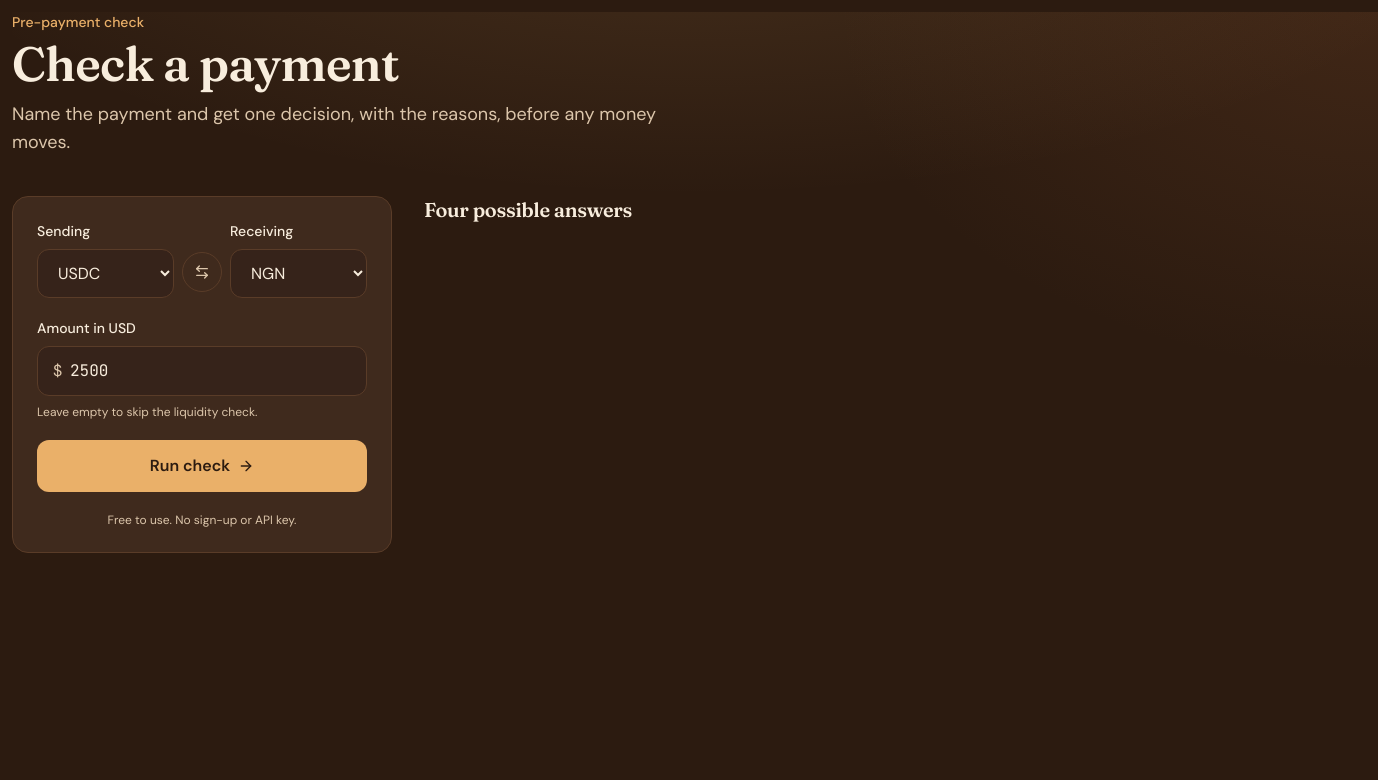
Test case: PredictionForm (Check a payment) › swaps assets and blocks a same-asset check
The width and height of the screenshot is (1378, 780).
Click the button named "swap assets" at (202, 272), box [182,252,222,292]
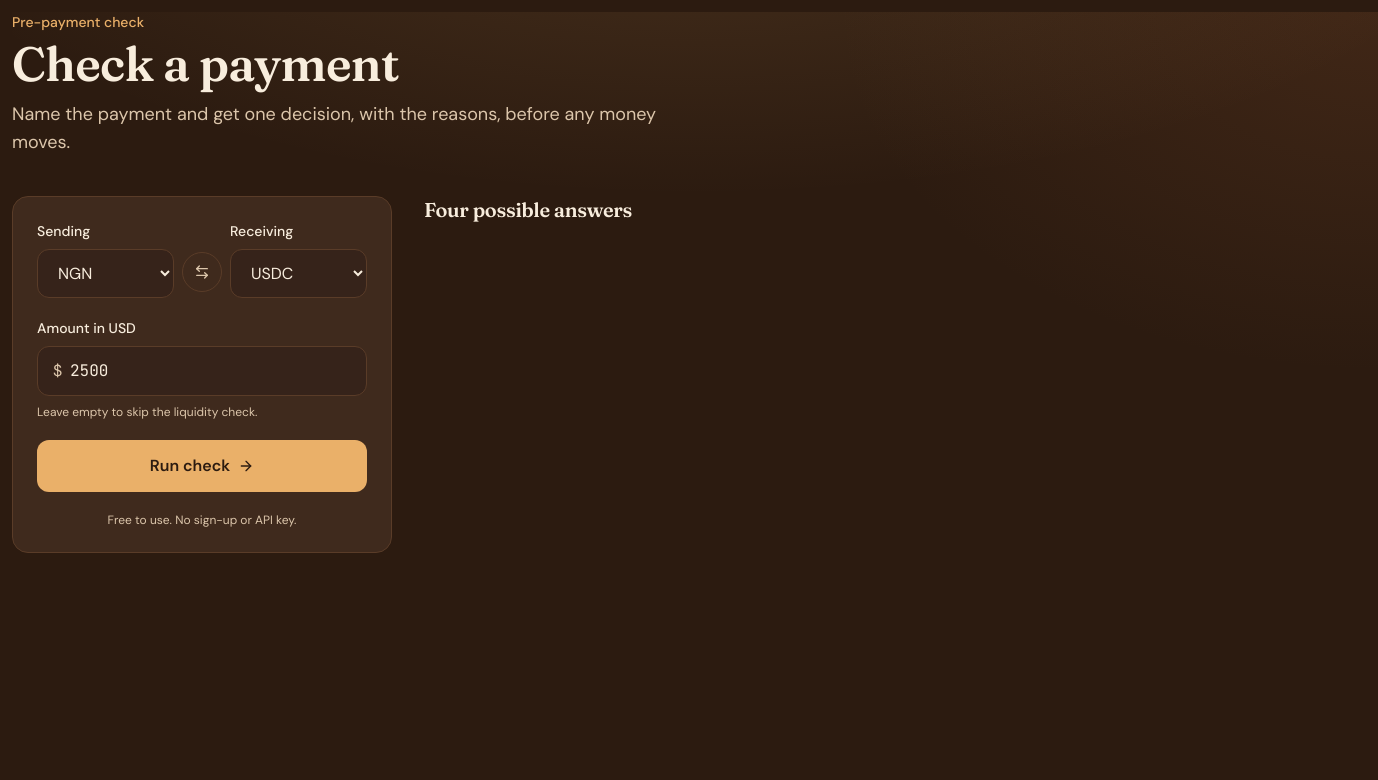
Check: the dropdown labelled "Sending" shows "NGN", box [37,249,174,298]
Check: the dropdown labelled "Receiving" shows "USDC"
Select "NGN" in the dropdown labelled "Receiving" at (298, 274), box [230,249,367,298]
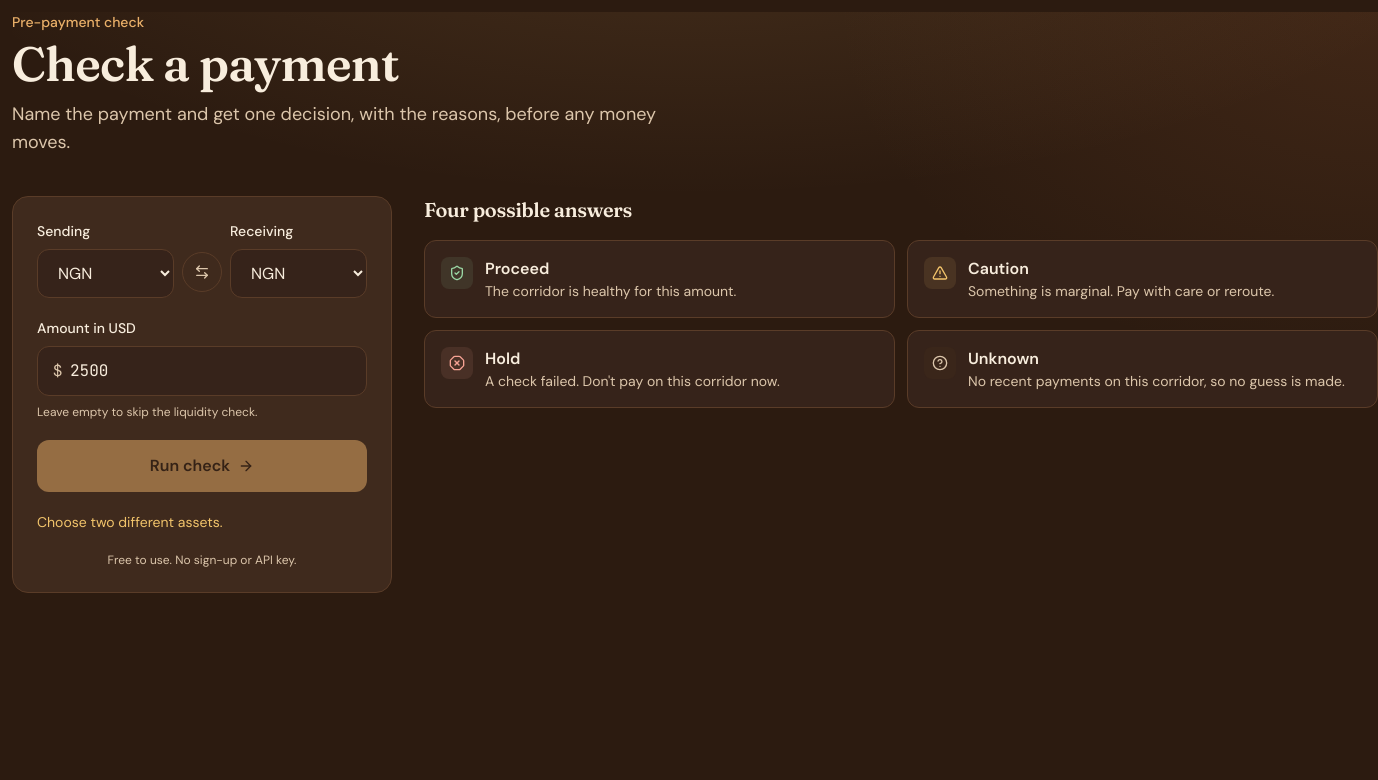
Check: the button "Run check" is disabled, box [37,440,367,492]
